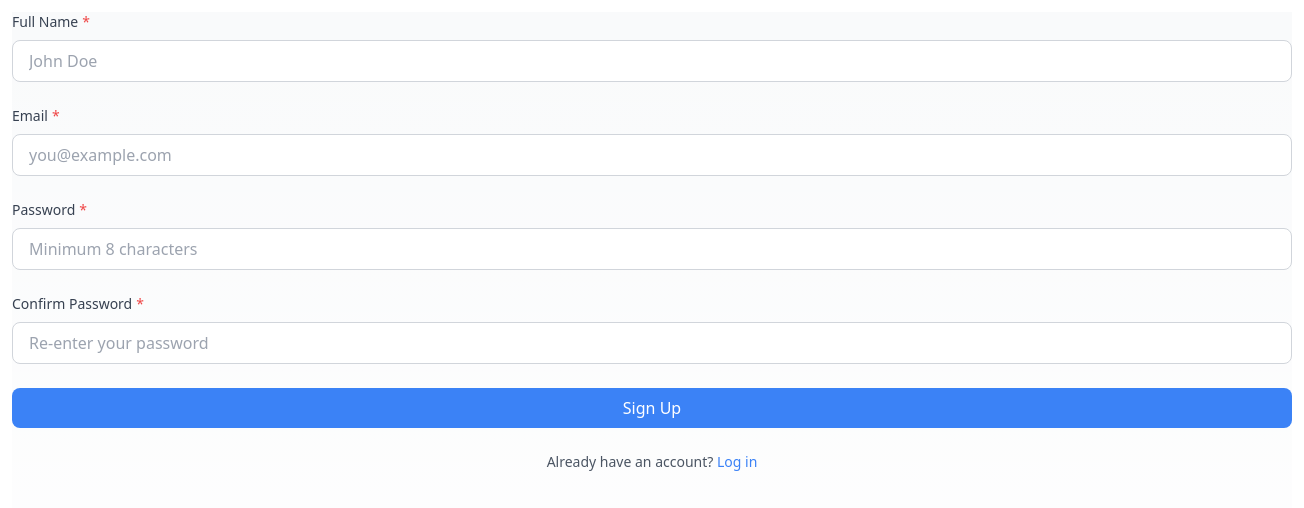
it: SignupForm › validates email format
The image size is (1304, 508).
In the field labelled "Email*": (652, 155) [12,134,1292,176], type "invalid-email"
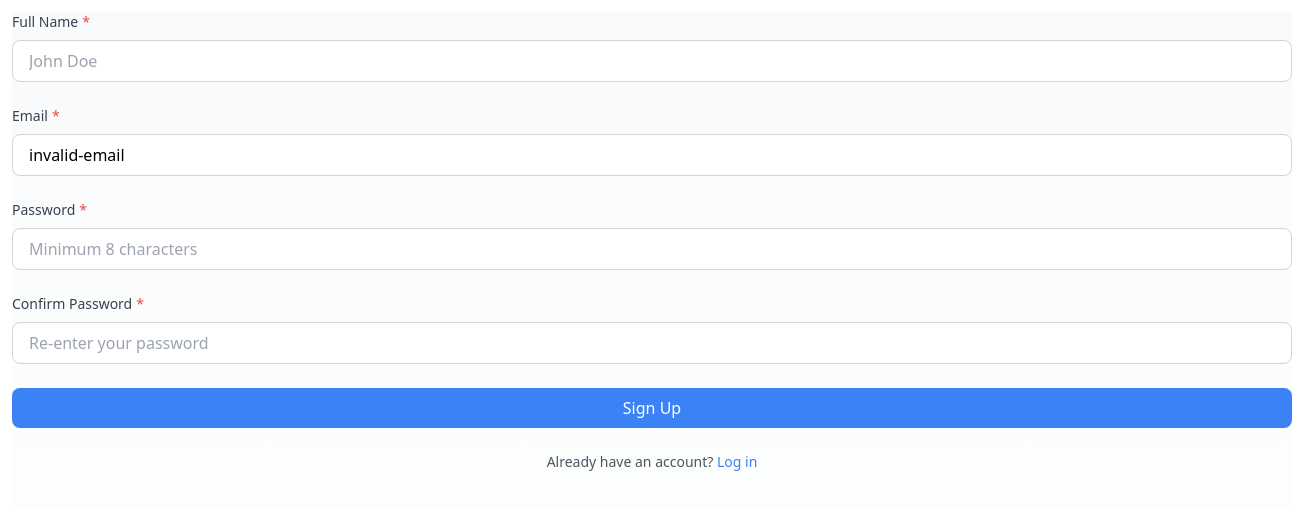
Click the button "Sign Up": (652, 408) [12,388,1292,428]
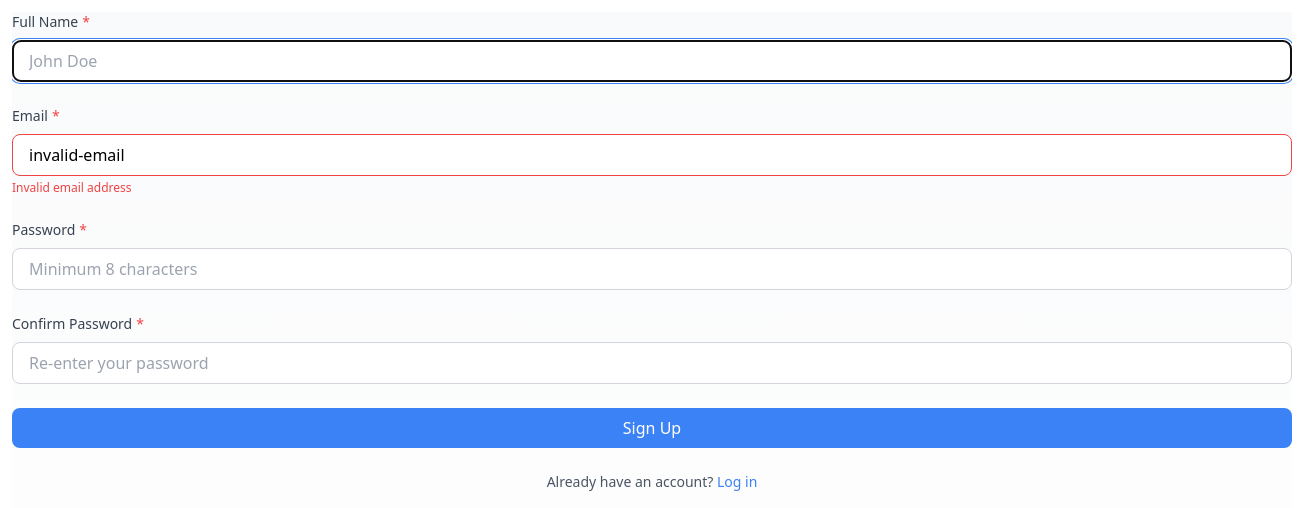
expect the text "Invalid email address" is shown: met, box [12,179,132,196]
